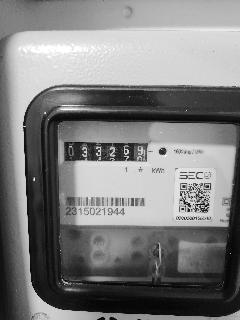1: (69, 147, 74, 156)
3: (110, 148, 115, 157)
4: (83, 148, 88, 157), (97, 147, 102, 156)
7: (124, 146, 129, 155)
:: (138, 146, 143, 155)
